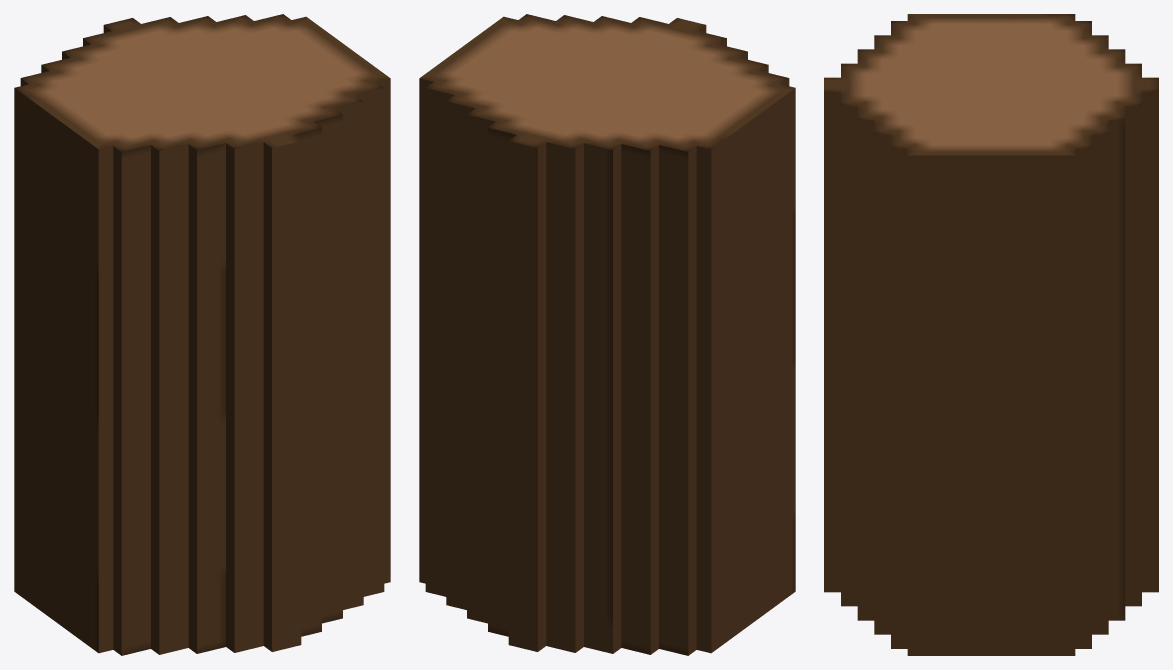
File: HexWoodWall.fbx
3 views of the same model, side by side, from view 1: azimuth 30°, elevation 25°; view 2: azimuth 150°, elevation 25°; view 3: azimuth 270°, elevation 25° (orthographic).
Parts seen in each view (by area): view 1: WoodWallHex.001; view 2: WoodWallHex.001; view 3: WoodWallHex.001.
Part boxes in pixels (bbox=[...]): WoodWallHex.001: bbox=[14, 14, 390, 655]; WoodWallHex.001: bbox=[419, 14, 795, 655]; WoodWallHex.001: bbox=[824, 14, 1158, 655].
Size of the model in its own units: 200 by 330 by 200.
1 material, 1 textured.
